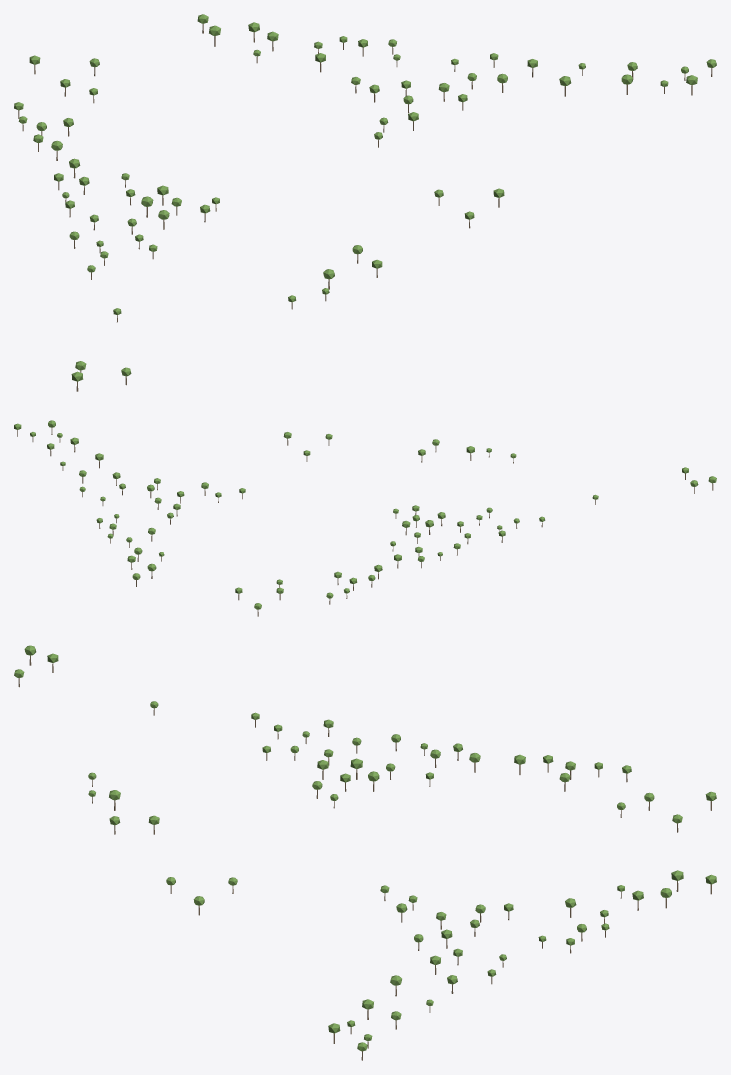
Rendered from Pampulha_VEG_ARVORES_MEDIAS.fbx.
3 views of the same model, one above another, from view 1: azimuth 30°, elevation 25°; view 2: azimuth 150°, elevation 25°; view 3: azimuth 270°, elevation 25° (orthographic). The views are drawn at different scales.
Visible parts, largest first — view 1: Pampulha_VEG_ARVORES_MEDIAS; view 2: Pampulha_VEG_ARVORES_MEDIAS; view 3: Pampulha_VEG_ARVORES_MEDIAS.
Boxes of the visible parts, bbox=[...] form: Pampulha_VEG_ARVORES_MEDIAS: bbox=[14, 14, 716, 391]; Pampulha_VEG_ARVORES_MEDIAS: bbox=[14, 420, 716, 616]; Pampulha_VEG_ARVORES_MEDIAS: bbox=[14, 645, 716, 1060].
Bounding box in the file's own units: 336 × 8.44 × 250.
